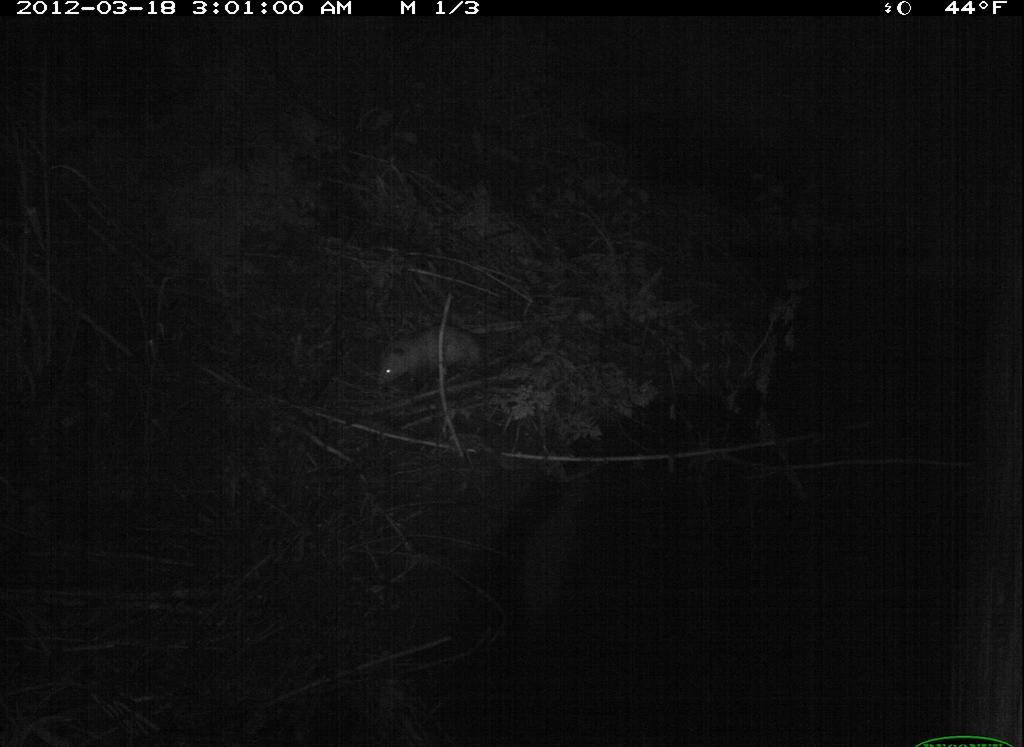opossum: (374, 321, 526, 394)
